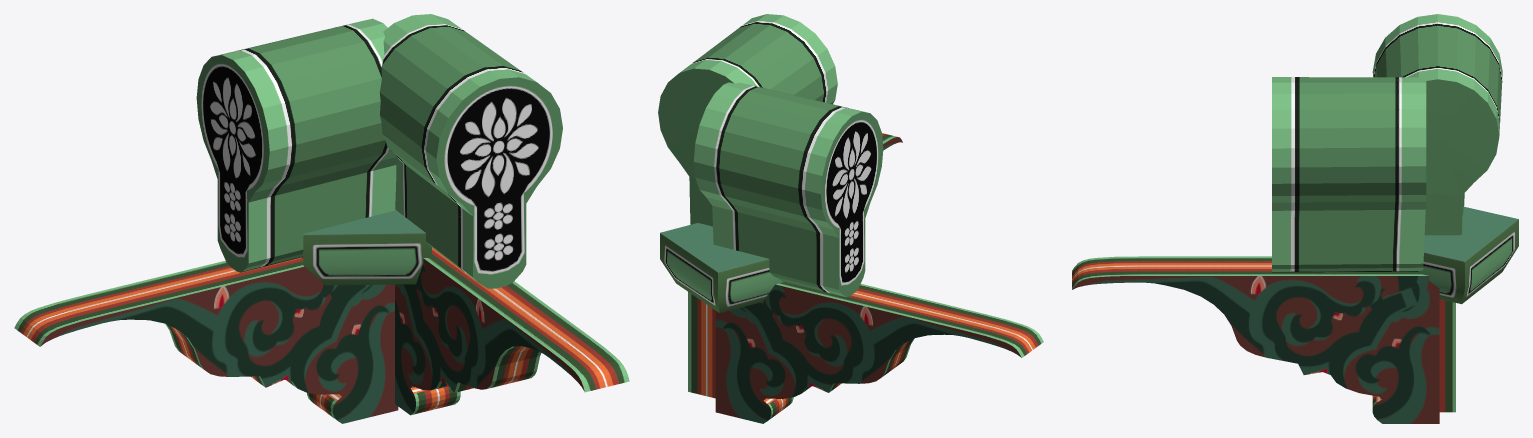
File: SM_R_DancheongCorner_3.fbx
3 views of the same model, side by side, from view 1: azimuth 30°, elevation 25°; view 2: azimuth 150°, elevation 25°; view 3: azimuth 270°, elevation 25° (orthographic). The views are drawn at different scales.
Visible parts, largest first — view 1: SM_R_DancheongCorner_3; view 2: SM_R_DancheongCorner_3; view 3: SM_R_DancheongCorner_3.
Boxes of the visible parts, bbox=[...] form: SM_R_DancheongCorner_3: bbox=[14, 14, 629, 423]; SM_R_DancheongCorner_3: bbox=[658, 14, 1043, 423]; SM_R_DancheongCorner_3: bbox=[1072, 14, 1518, 423].
Size of the model in its own units: 91.56 by 89.52 by 75.17.
3 materials, 3 textured.
